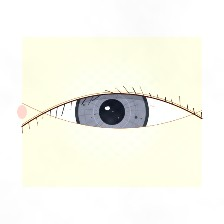pinguecula_lesion: (160, 94, 202, 127)
